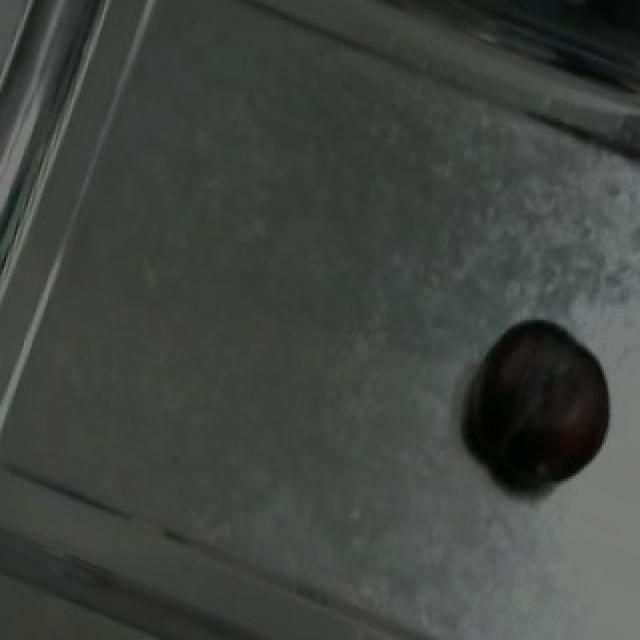Fruit: (460, 302, 624, 498)
